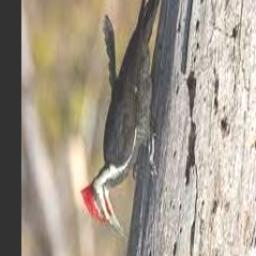Woodpecker: (80, 0, 168, 241)
